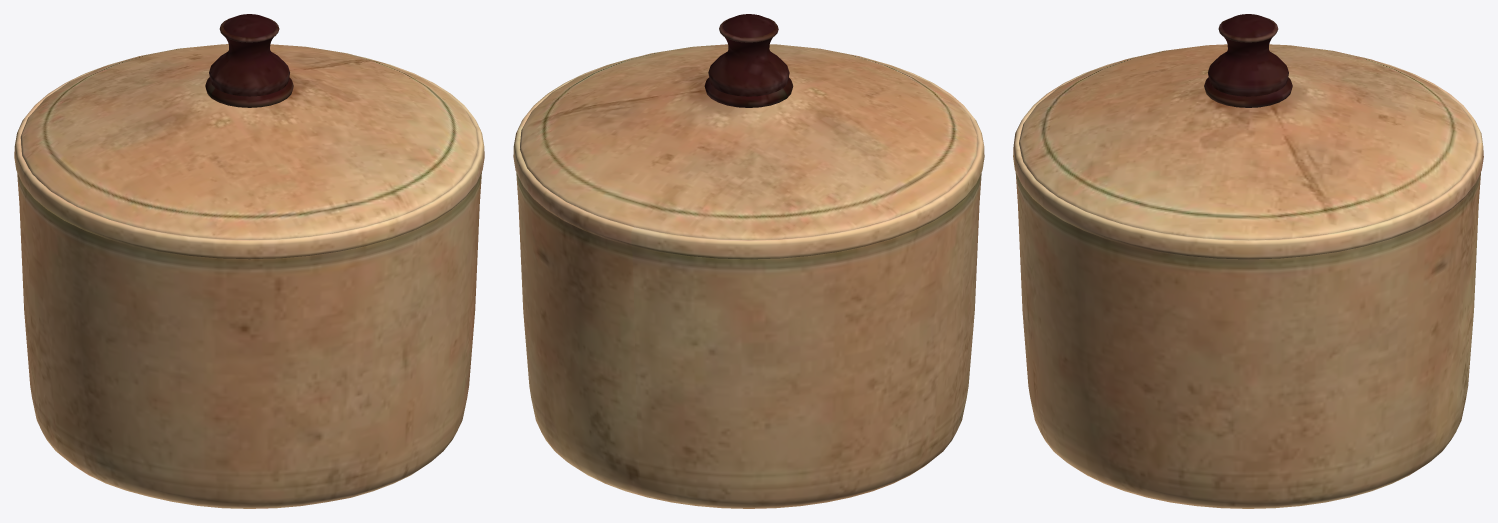
Rendered from brassPot.glb.
3 views of the same model, side by side, from view 1: azimuth 30°, elevation 25°; view 2: azimuth 150°, elevation 25°; view 3: azimuth 270°, elevation 25° (orthographic).
Visible parts, largest first — view 1: brass_pot_01; view 2: brass_pot_01; view 3: brass_pot_01.
Boxes of the visible parts, x1=… form: brass_pot_01: x1=14, y1=14, x2=484, y2=508; brass_pot_01: x1=513, y1=14, x2=984, y2=508; brass_pot_01: x1=1013, y1=14, x2=1483, y2=508.
Size of the model in its own units: 0.3019 by 0.2909 by 0.3017.
Materials: 1 (1 with a texture image).
